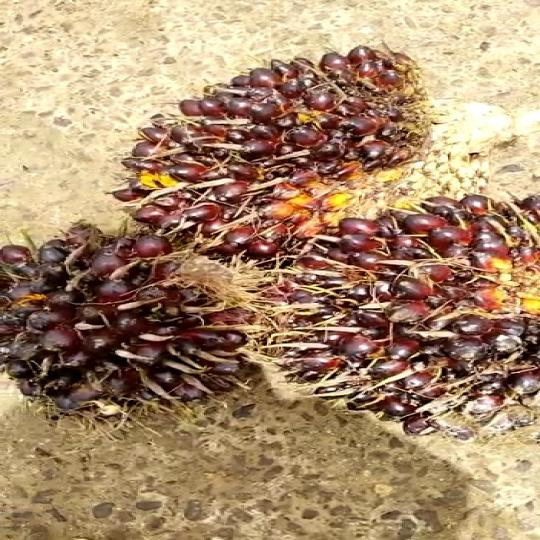kurang masak: (96, 48, 475, 260), (278, 183, 540, 447), (7, 210, 301, 418)
